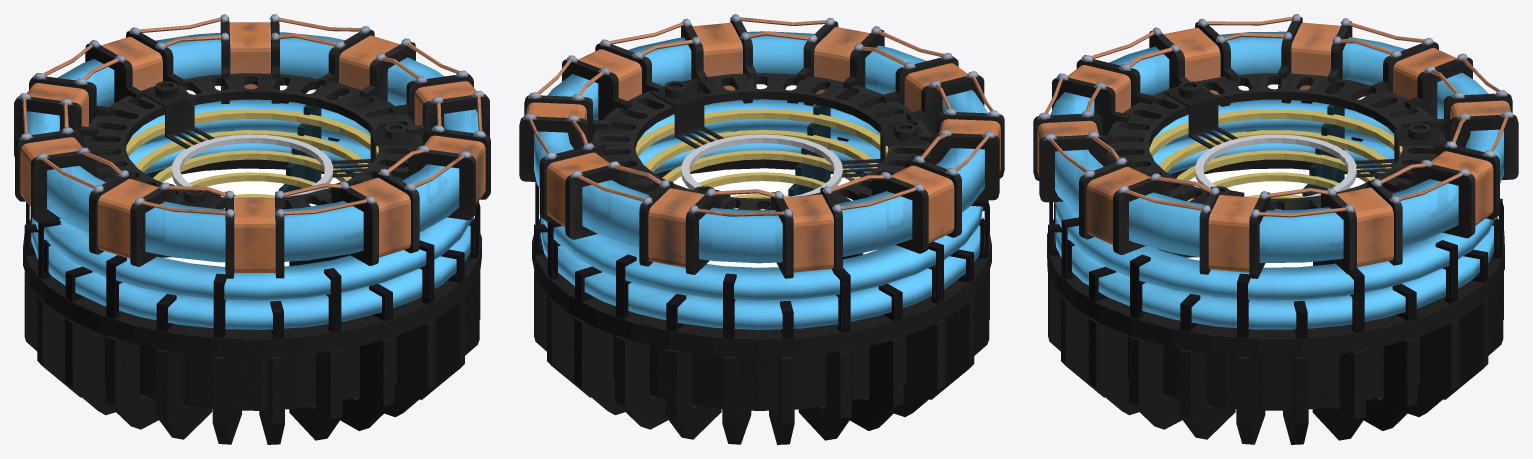
The model's file is reactor.glb.
3 renders of one model, left to right at view 1: azimuth 30°, elevation 25°; view 2: azimuth 150°, elevation 25°; view 3: azimuth 270°, elevation 25°, orthographic.
Parts seen in each view (by area): view 1: Bottom_LP, Glas_LP, TeslaRing_LP, Wires_LP, InnerMetalWithHoles_LP, GoldRings_LP, Clips_LP, SingleWires_LP, MetalHolders_LP, Plumb_LP, MetalRing_LP, BottomLight_LP (+2 smaller); view 2: Bottom_LP, Glas_LP, TeslaRing_LP, Wires_LP, InnerMetalWithHoles_LP, GoldRings_LP, Clips_LP, SingleWires_LP, MetalHolders_LP, Plumb_LP, MetalRing_LP, BottomLight_LP (+2 smaller); view 3: Bottom_LP, Glas_LP, TeslaRing_LP, Wires_LP, InnerMetalWithHoles_LP, GoldRings_LP, Clips_LP, SingleWires_LP, MetalHolders_LP, Plumb_LP, MetalRing_LP, BottomLight_LP (+2 smaller).
Boxes of the visible parts, x1,y1,x2,y2 form: Bottom_LP: (23,159,481,444); Glas_LP: (24,32,478,329); TeslaRing_LP: (14,17,490,278); Wires_LP: (20,22,485,272); InnerMetalWithHoles_LP: (82,73,422,208); GoldRings_LP: (126,108,378,206); Clips_LP: (24,101,480,338); SingleWires_LP: (22,17,482,215); MetalHolders_LP: (142,87,416,209); Plumb_LP: (18,14,486,217); MetalRing_LP: (171,134,333,197); BottomLight_LP: (163,168,340,266); Bottom_LP: (532,159,991,444); Glas_LP: (534,31,987,329); TeslaRing_LP: (519,17,1004,278); Wires_LP: (526,22,1000,272); InnerMetalWithHoles_LP: (592,73,930,210); GoldRings_LP: (635,108,888,199); Clips_LP: (534,100,989,338); SingleWires_LP: (528,17,993,216); MetalHolders_LP: (650,87,925,209); Plumb_LP: (523,14,1000,217); MetalRing_LP: (681,134,842,197); BottomLight_LP: (673,168,877,267); Bottom_LP: (1047,159,1504,444); Glas_LP: (1050,31,1503,329); TeslaRing_LP: (1033,17,1518,278); Wires_LP: (1037,22,1511,272); InnerMetalWithHoles_LP: (1108,73,1445,210); GoldRings_LP: (1149,109,1402,201); Clips_LP: (1048,100,1503,338); SingleWires_LP: (1044,16,1508,217); MetalHolders_LP: (1164,87,1439,204); Plumb_LP: (1037,14,1514,217); MetalRing_LP: (1195,134,1356,197); BottomLight_LP: (1187,168,1365,267).
Size of the model in its own units: 317 by 184 by 318.
Materials: 2 (1 with a texture image).
